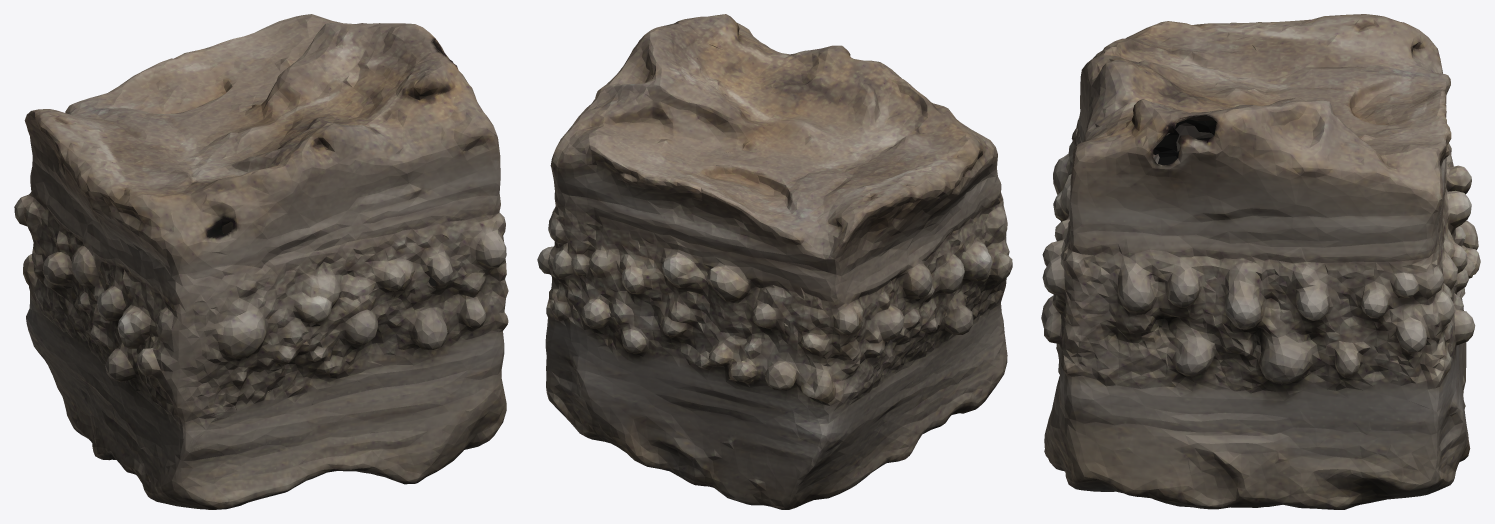
3 renders of one model, left to right at view 1: azimuth 30°, elevation 25°; view 2: azimuth 150°, elevation 25°; view 3: azimuth 270°, elevation 25°, orthographic. The views are drawn at different scales.
Parts seen in each view (by area): view 1: world; view 2: world; view 3: world.
Part boxes in pixels (x1,y1,x2,y2): world: (14, 14, 508, 509); world: (537, 14, 1012, 509); world: (1041, 14, 1480, 509).
Size of the model in its own units: 0.6037 by 0.5945 by 0.5616.
Materials: 1 (1 with a texture image).
